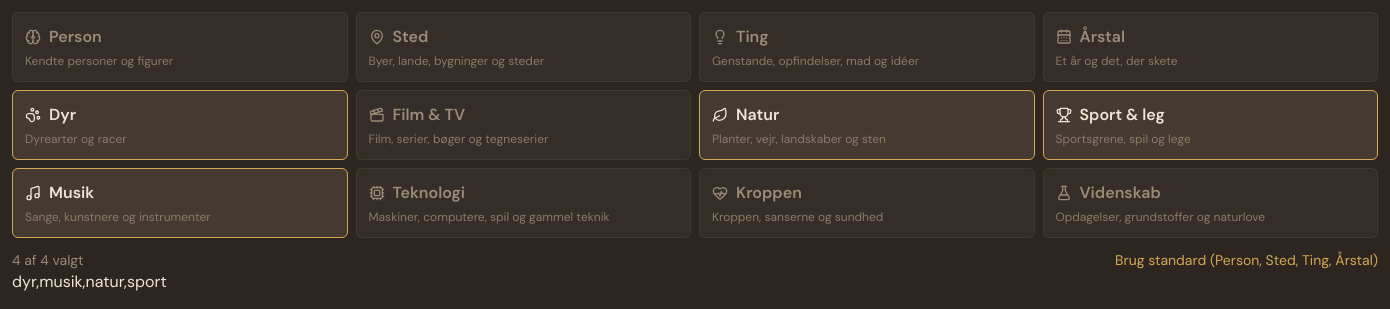
Test: CategoryPicker › can go back to the default four
The width and height of the screenshot is (1390, 309).
Click the button "Brug standard (Person, Sted, Ting, Årstal)". click: point(1246, 260)
box: x1=1115 y1=250 x2=1378 y2=270
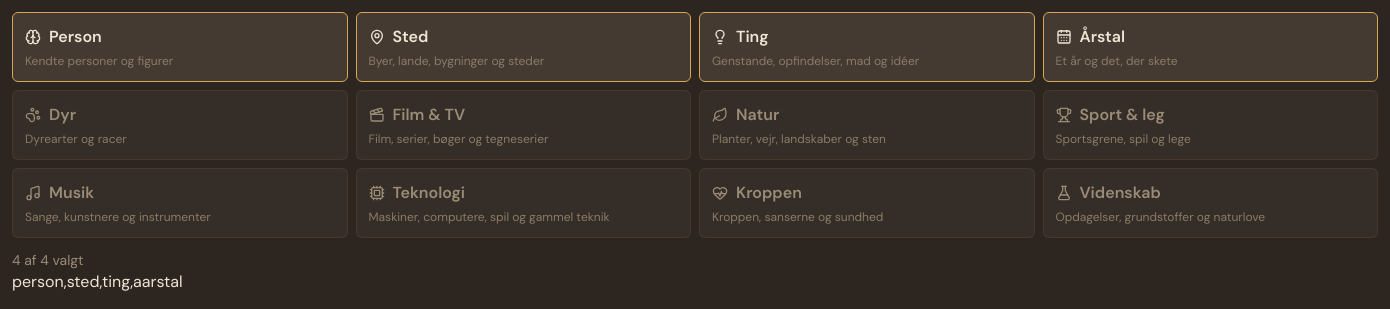
expect the text with test id "value" reads "person,sted,ting,aarstal": met, box x1=12 y1=271 x2=183 y2=292
